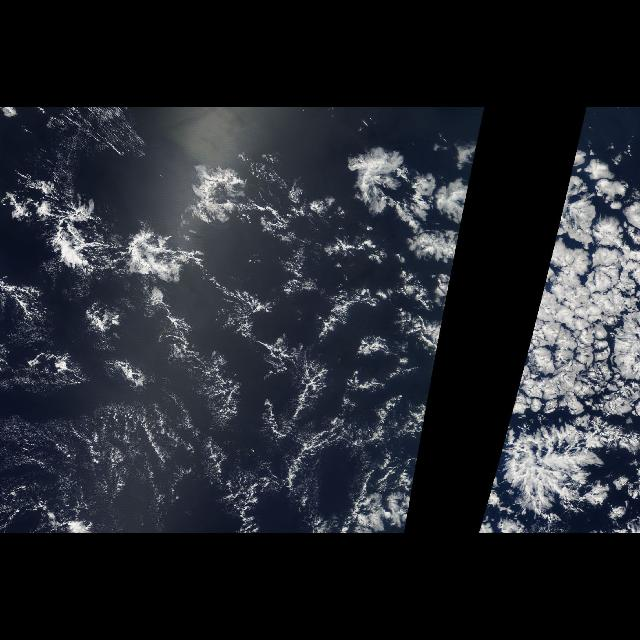Flower: (54, 134, 480, 522), (480, 134, 640, 522)
Sugar: (1, 273, 402, 533)
